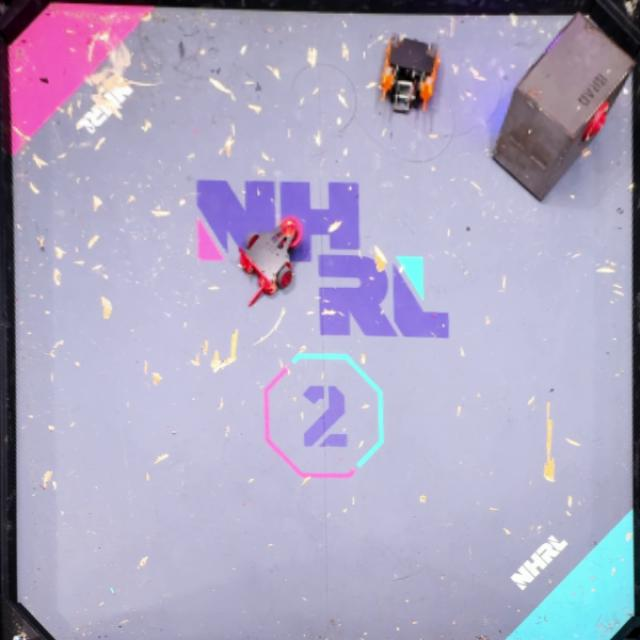housebot: (489, 12, 633, 202)
robot: (238, 215, 303, 306), (379, 34, 440, 116)
